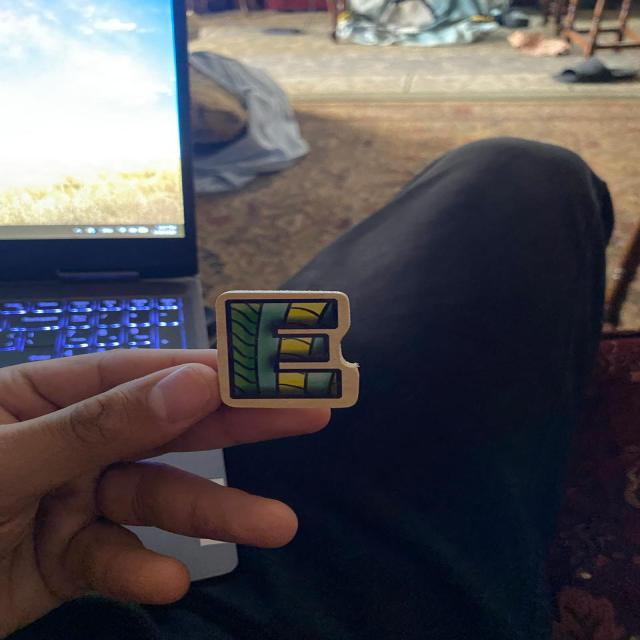E: (216, 291, 359, 408)
